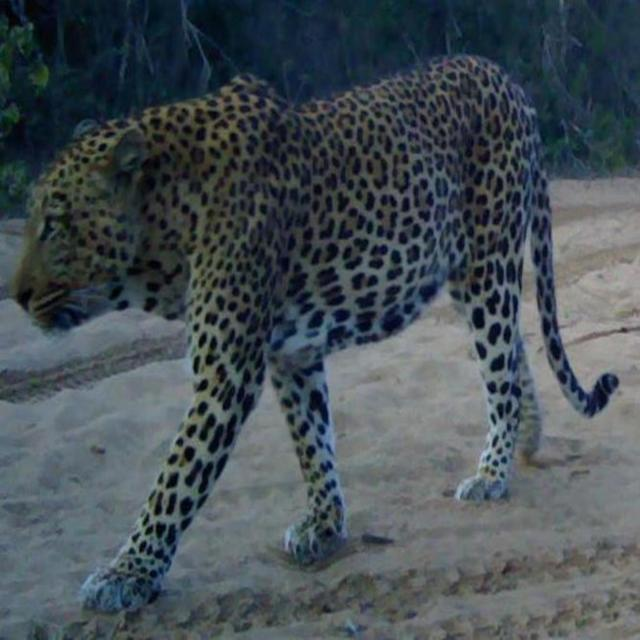Leopard: (8, 48, 620, 573)
